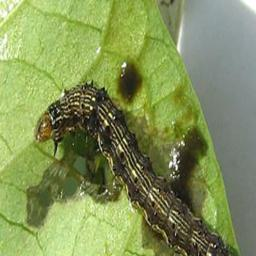Tobacco_budworm: (33, 84, 231, 256)
